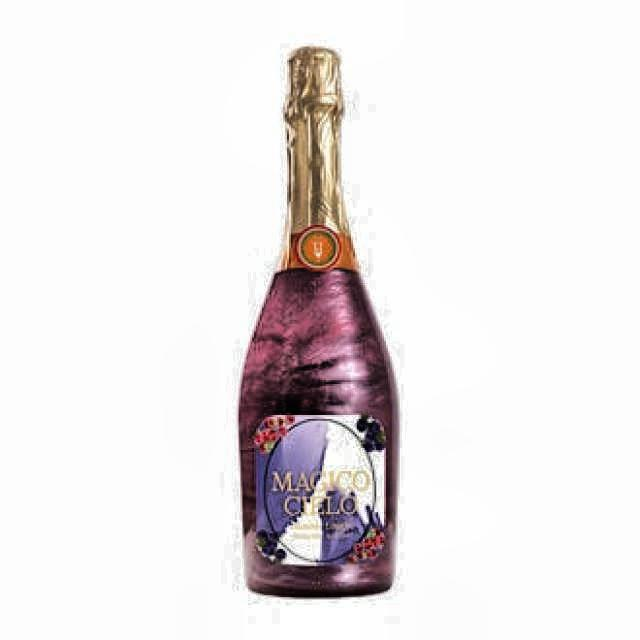glass: (235, 46, 401, 601)
